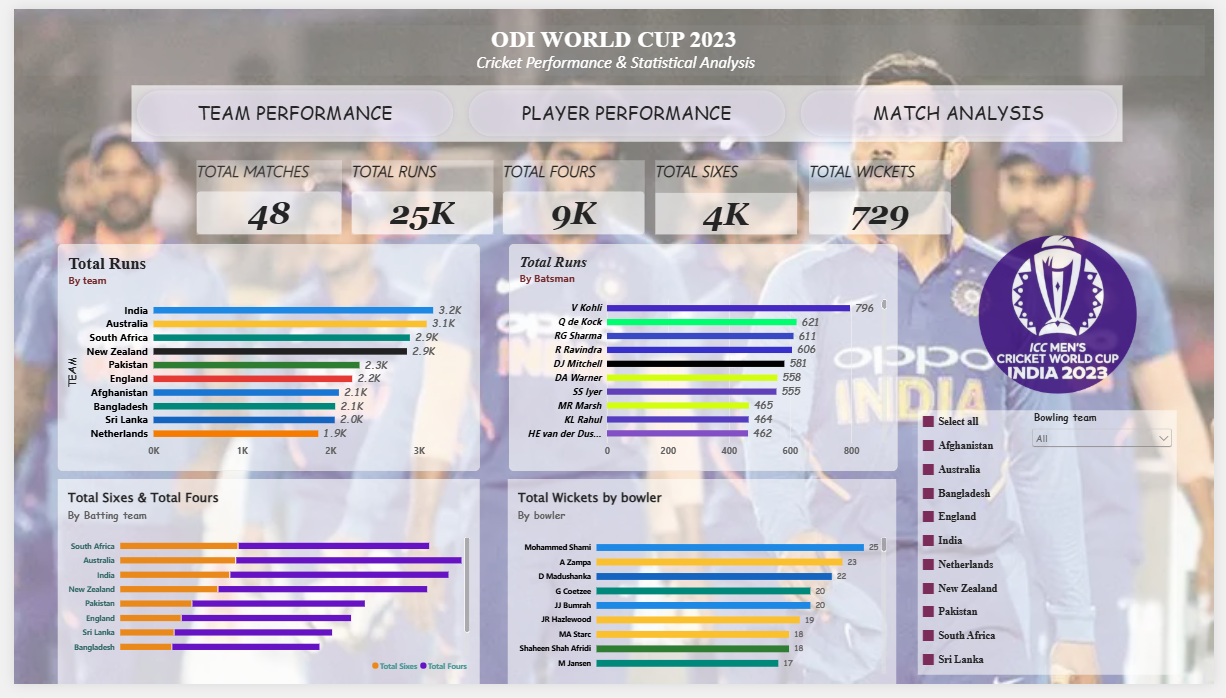

This screenshot's page, from the dashboard's own definition file:
{"tool":"powerbi","page":{"name":"HOME","canvas":[1920,1080],"ordinal":0},"visuals":[{"type":"textbox","box":[14.5,25.3,1891.1,80.7],"z":0},{"type":"cardVisual","title":"TOTAL MATCHES","fields":{"Data":["ODI 2023.Total Matches"]},"box":[292.4,241.8,232.9,119.2],"z":1000},{"type":"cardVisual","title":"TOTAL RUNS","fields":{"Data":["ODI 2023.Total Runs"]},"box":[540,241.8,227.4,119.2],"z":2000},{"type":"cardVisual","title":"TOTAL FOURS","fields":{"Data":["ODI 2023.Total Fours"]},"box":[782.2,241.8,227.4,119.2],"z":3000},{"type":"cardVisual","title":"TOTAL SIXES","fields":{"Data":["ODI 2023.Total Sixs"]},"box":[1026.1,241.8,227.4,119.2],"z":4000},{"type":"cardVisual","title":"TOTAL WICKETS","fields":{"Data":["ODI 2023.Total Wickets Team"]},"box":[1271.9,241.8,227.4,119.2],"z":5000},{"type":"clusteredBarChart","title":"Total Runs ","fields":{"Category":["ODI 2023.batting_team"],"Y":["ODI 2023.Total Runs"]},"box":[69.7,376,675,363.2],"z":6000},{"type":"clusteredBarChart","title":"Total Runs","fields":{"Category":["ODI 2023.striker"],"Y":["ODI 2023.Total Runs"]},"box":[792.4,376,621.8,363.2],"z":7000},{"type":"barChart","title":"Total Sixes & Total Fours","fields":{"Category":["ODI 2023.batting_team"],"Y":["ODI 2023.Total Sixs","ODI 2023.Total Fours"]},"box":[69.7,752,675,328.3],"z":8000},{"type":"clusteredBarChart","fields":{"Category":["ODI 2023.bowler"],"Y":["ODI 2023.Total Wickets"]},"box":[790.6,752,621.8,328.3],"z":9000},{"type":"slicer","fields":{"Values":["ODI 2023.batting_team"]},"box":[1445.9,642.4,414.4,423.5],"z":10000},{"type":"pageNavigator","box":[187.1,122.7,1585.3,90.5],"z":11000},{"type":"image","box":[1518.3,361.9,304,253.4],"z":12000},{"type":"slicer","fields":{"Values":["ODI 2023.bowling_team"]},"box":[1624,642,234,64],"z":13000}]}

Visuals, with their boxes in screenshot pixels (x1, y1, x2, y2), scaled from the page's 1920x1080 canvas onto the 1226x698 screenshot:
textbox: select_region(9, 16, 1217, 69)
"TOTAL MATCHES" cardVisual: select_region(187, 156, 335, 233)
"TOTAL RUNS" cardVisual: select_region(345, 156, 490, 233)
"TOTAL FOURS" cardVisual: select_region(499, 156, 645, 233)
"TOTAL SIXES" cardVisual: select_region(655, 156, 800, 233)
"TOTAL WICKETS" cardVisual: select_region(812, 156, 957, 233)
"Total Runs " clusteredBarChart: select_region(45, 243, 476, 478)
"Total Runs" clusteredBarChart: select_region(506, 243, 903, 478)
"Total Sixes & Total Fours" barChart: select_region(45, 486, 476, 697)
clusteredBarChart - ODI 2023.bowler x ODI 2023.Total Wickets: select_region(505, 486, 902, 697)
slicer - ODI 2023.batting_team: select_region(923, 415, 1188, 689)
pageNavigator: select_region(119, 79, 1132, 138)
image: select_region(969, 234, 1164, 398)
slicer - ODI 2023.bowling_team: select_region(1037, 415, 1186, 456)
